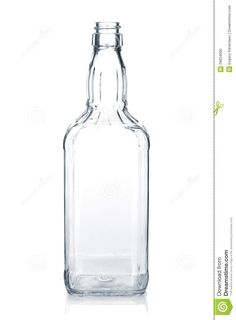emptybottle: (64, 21, 148, 295)
